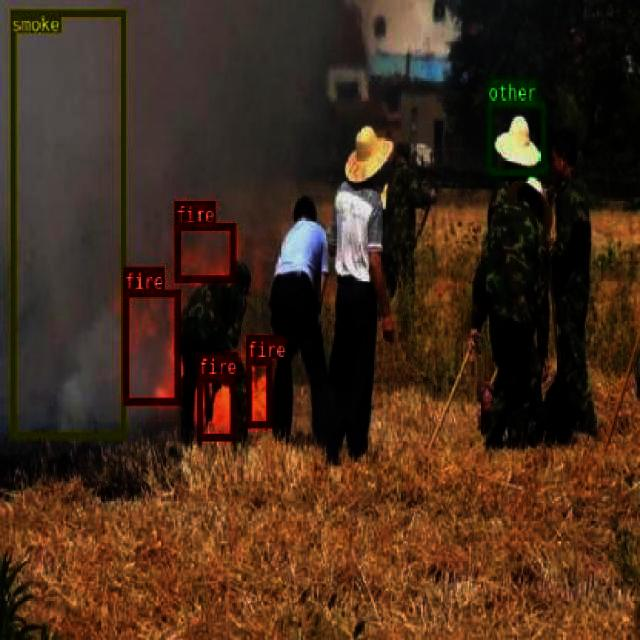fire: (123, 288, 179, 402), (174, 222, 234, 281), (197, 374, 234, 440), (246, 358, 271, 426)
smoke: (10, 9, 124, 437)
